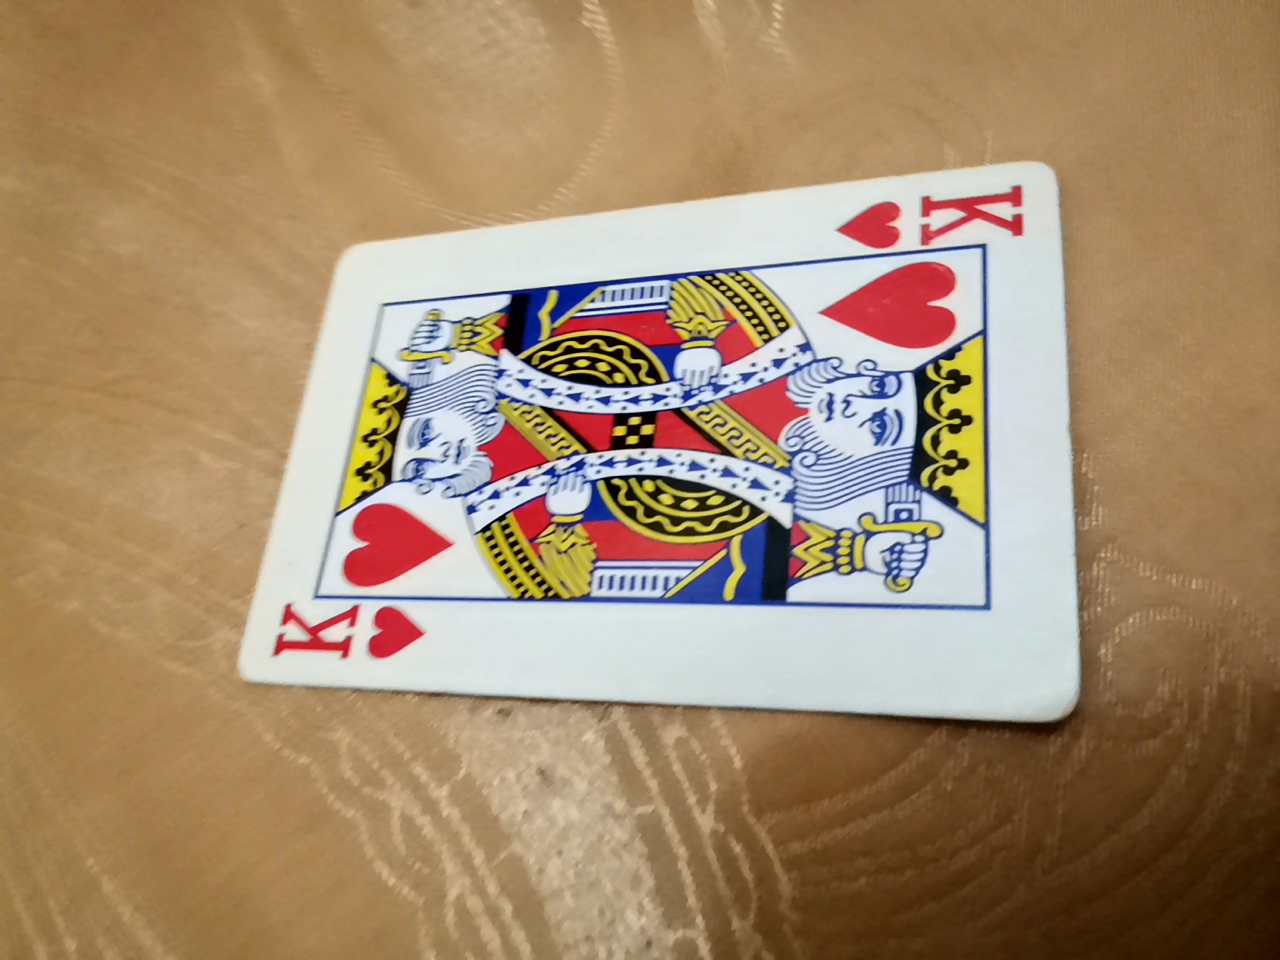hx k: (250, 206, 1094, 725)
